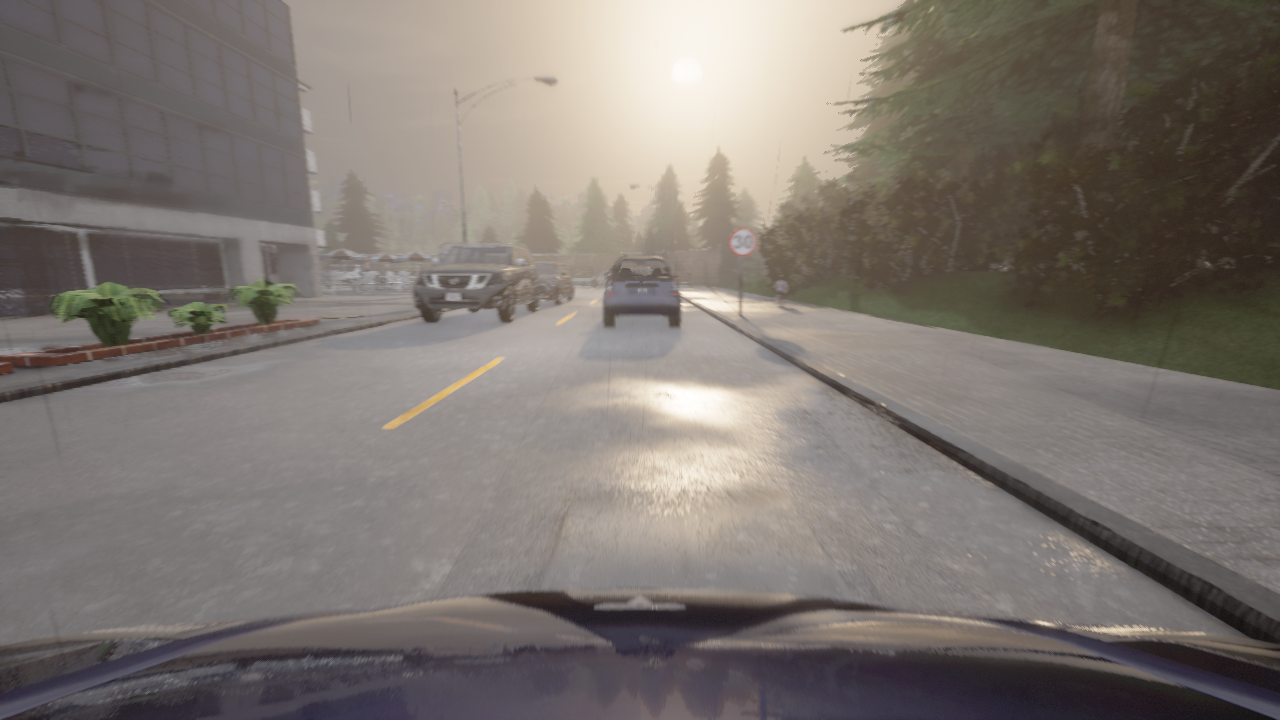cyclist: (0, 588, 1279, 719), (413, 243, 540, 322), (603, 256, 680, 327), (534, 262, 573, 304), (320, 264, 369, 285), (591, 269, 611, 286)
pedestrian: (774, 275, 786, 307)
